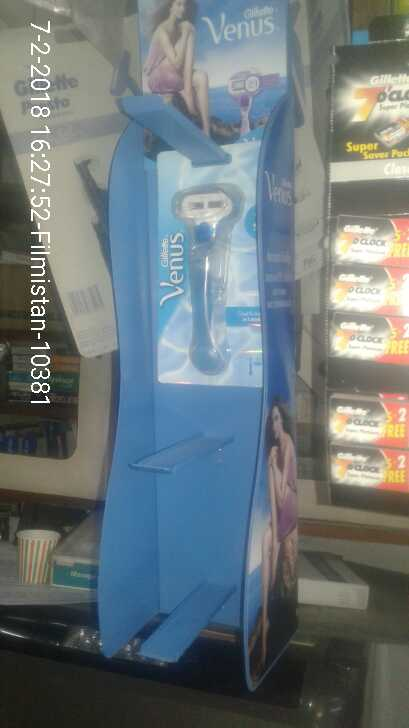venus: (149, 141, 267, 389)
